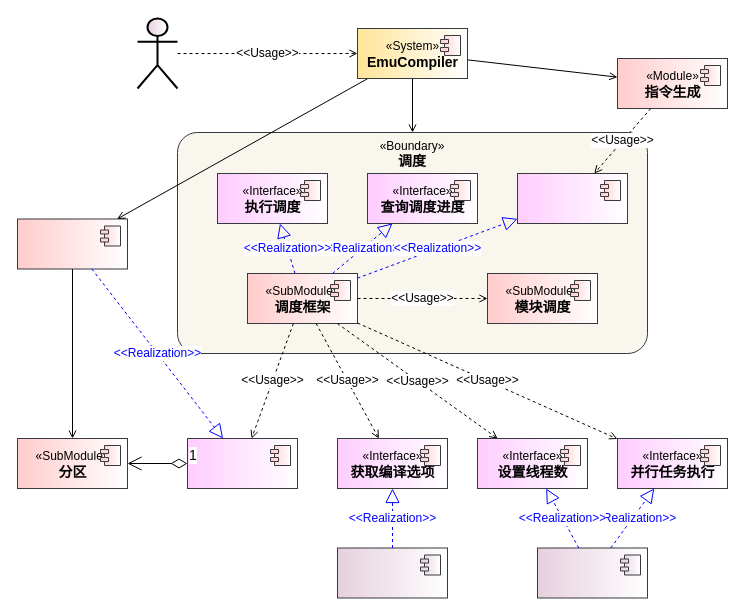
The diagram is 745 pixels wide and 615 high, and some of its shapes have lost their labels. Each missing label, with the centre of its shape:
"«Interface» 节点分区表" belongs at point 242,463.
"«Interface» 调度结果" belongs at point 572,198.
"«Module» 线程池" belongs at point 592,572.
"«Module» 编译选项" belongs at point 392,572.
"«Module» 网表分割" belongs at point 72,243.
"逻辑验证" belongs at point 157,53.
